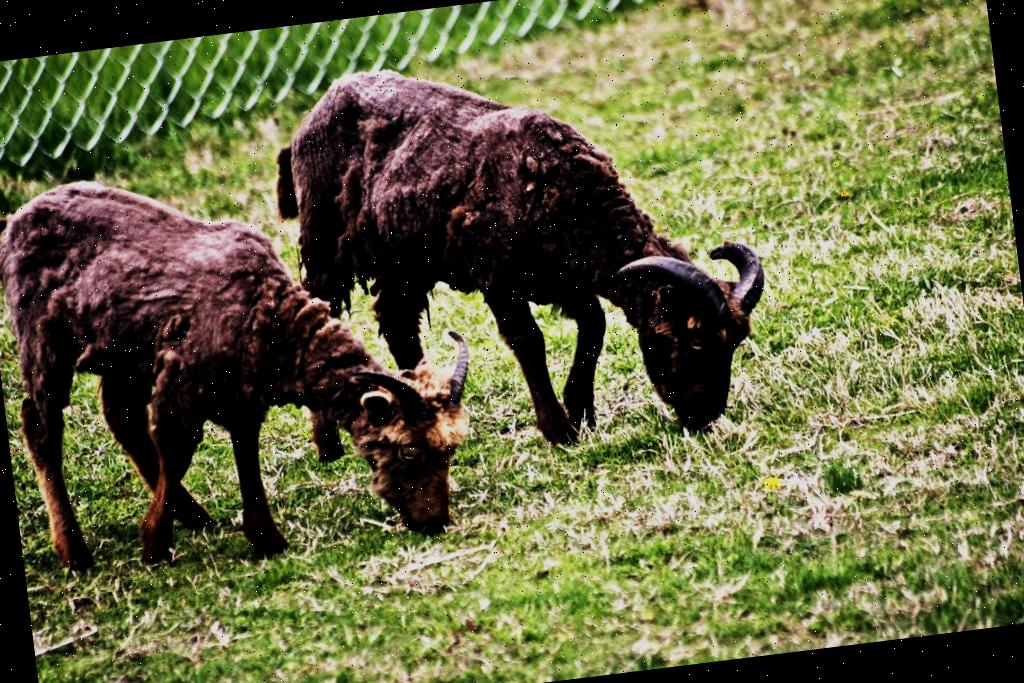Sheep: (254, 22, 792, 485), (0, 132, 496, 601)
